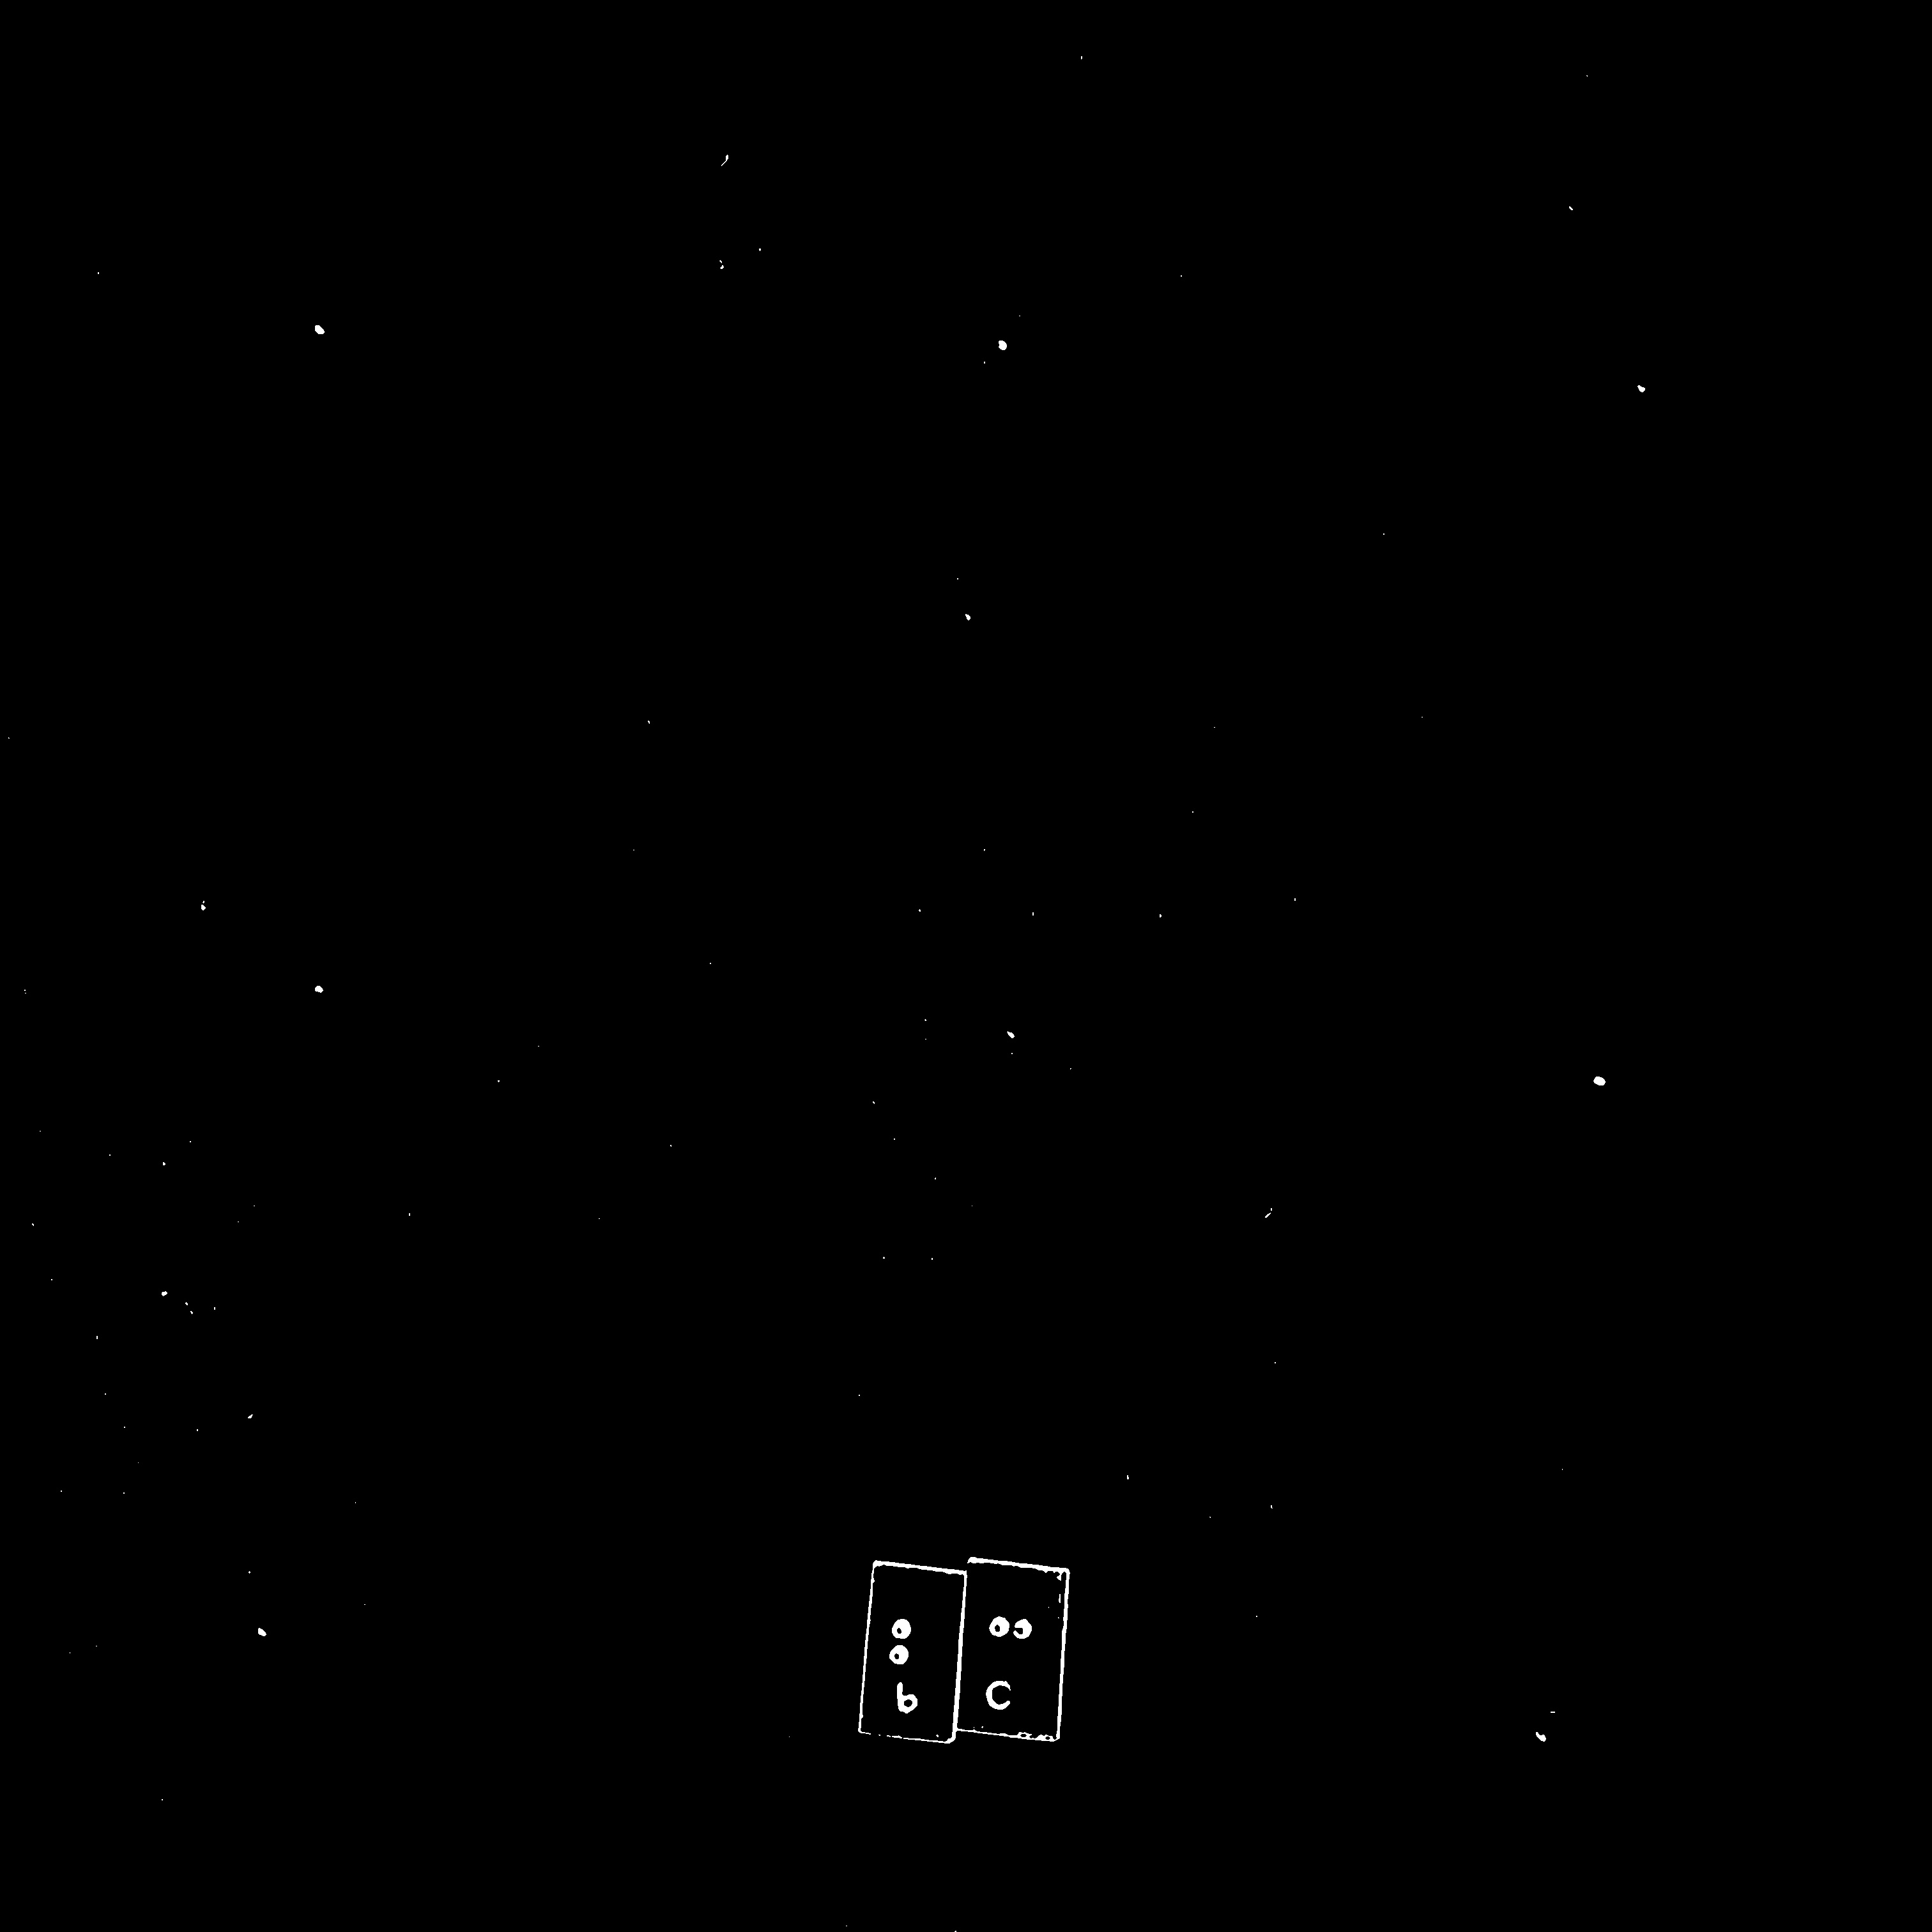b: (880, 1607, 940, 1690)
c: (982, 1597, 1044, 1694)
